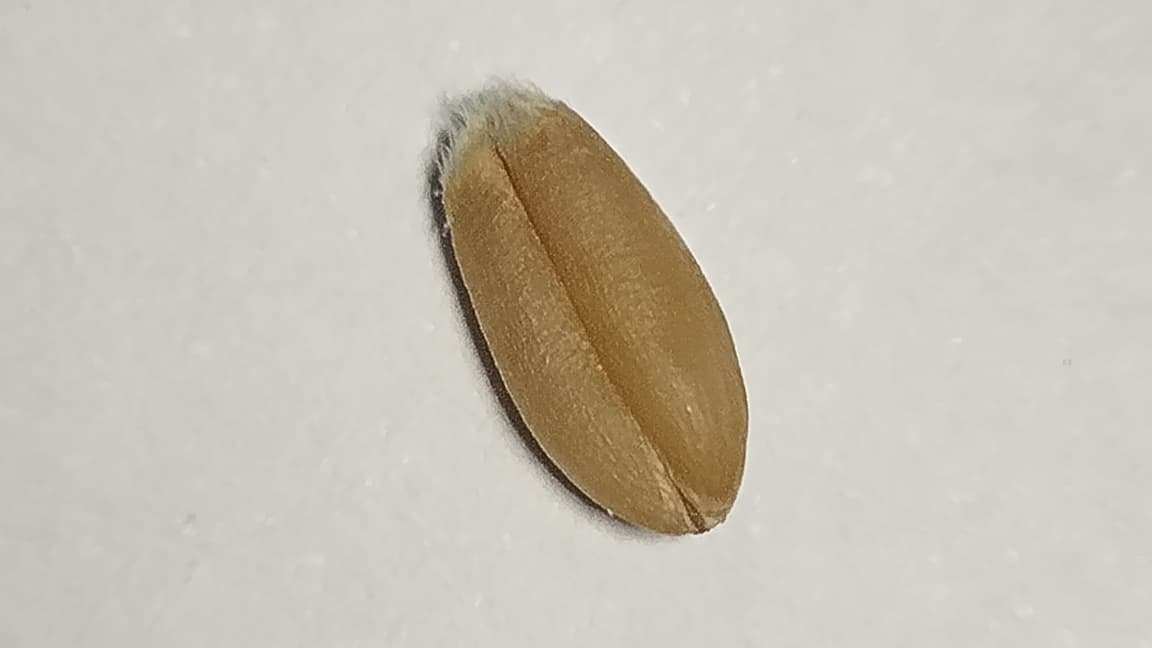healthy: (435, 80, 746, 532)
